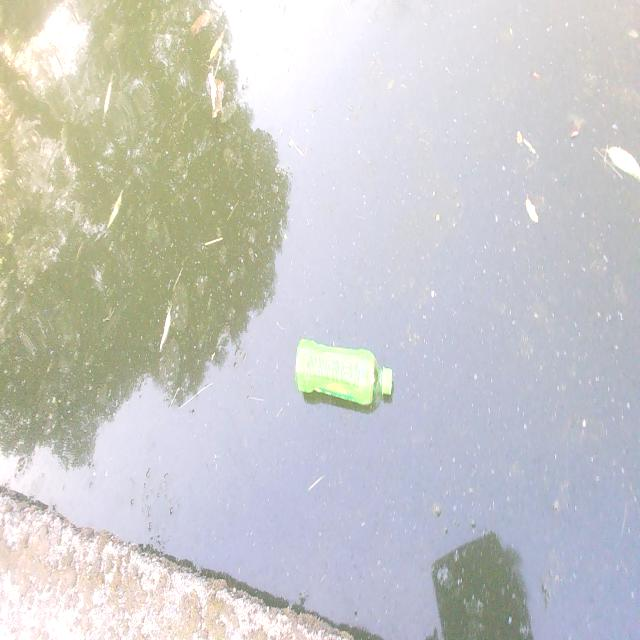bottle: (292, 335, 397, 414)
